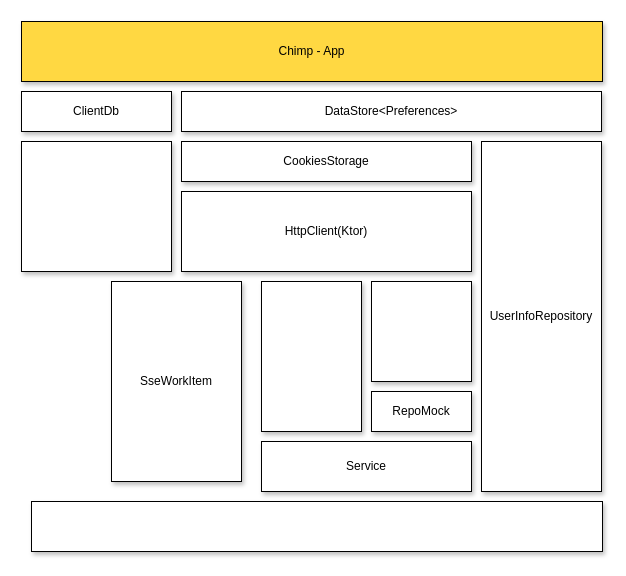
This 626x576 diagram has some shape labels left out. The shapes that lost their labels are listed below. From the top down, each one's centre as x and y in pixels, then its label:
At (97,207): "Repository".
At (422,332): "MockService".
At (312,357): "HttpService".
At (317,527): "UI".
